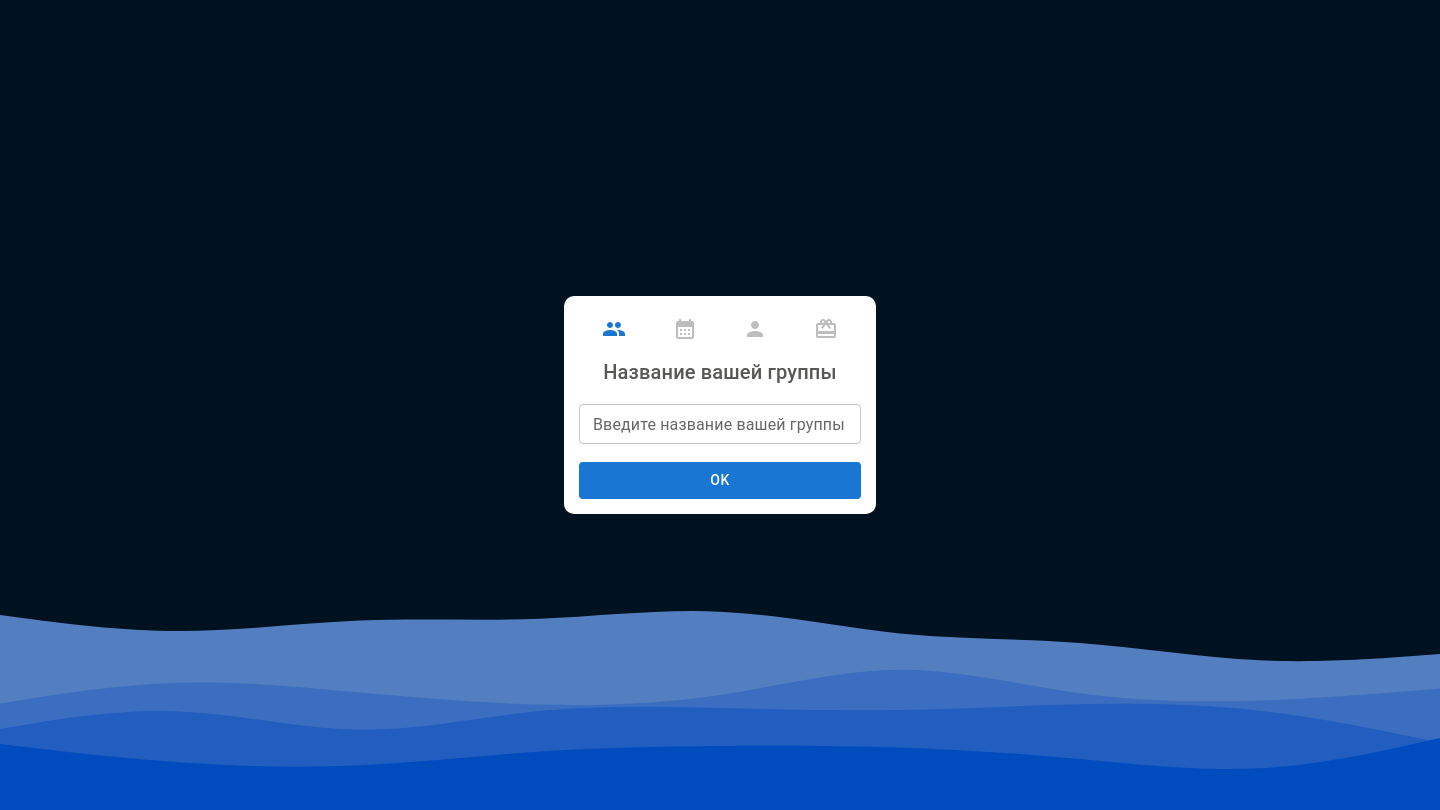
Test: <Group /> › should render component GroupDate on the step 2 screen
In the field with test id "group-name-input": (720, 424) [579,404,861,444], type "content"
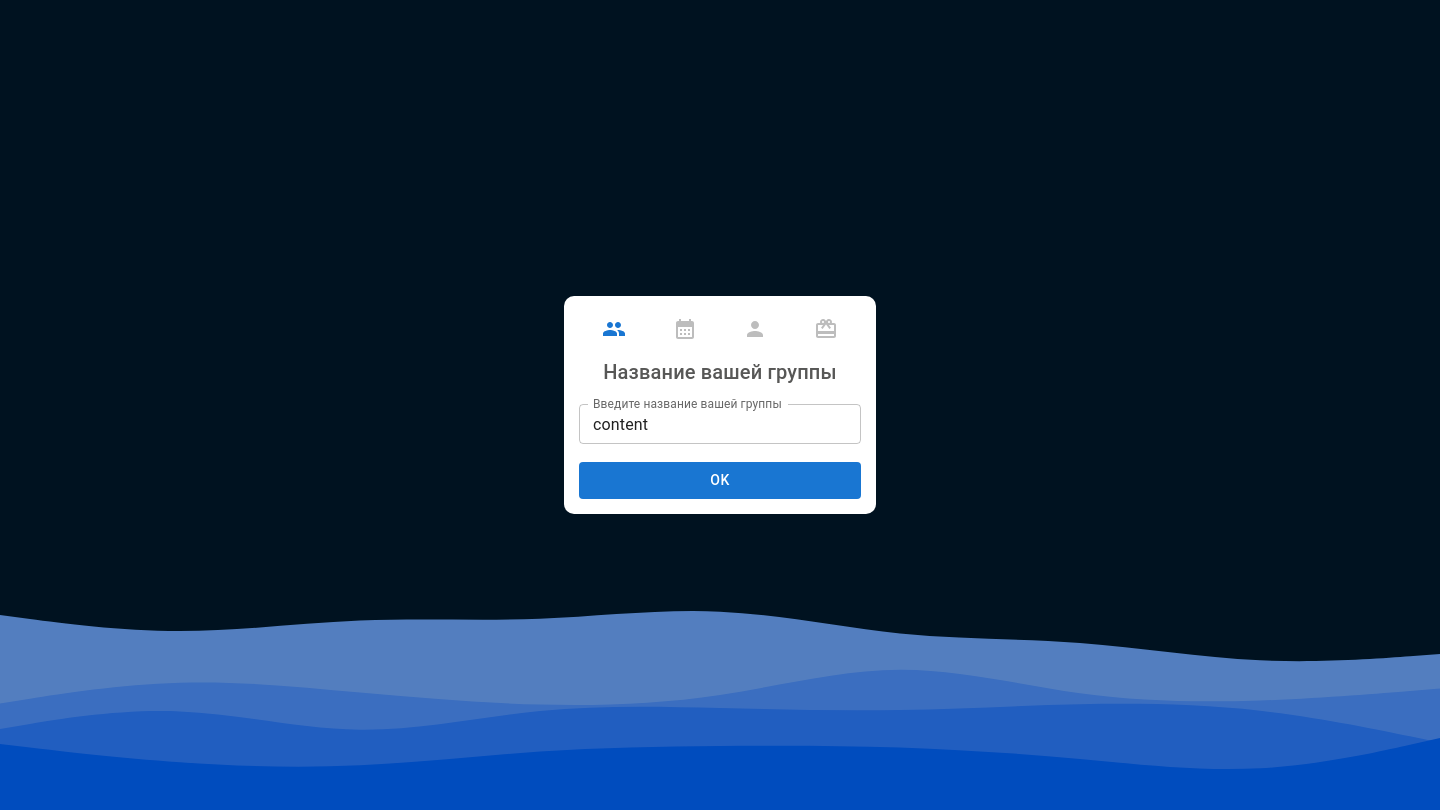
Click the button "OK": (720, 481) [579,462,861,499]
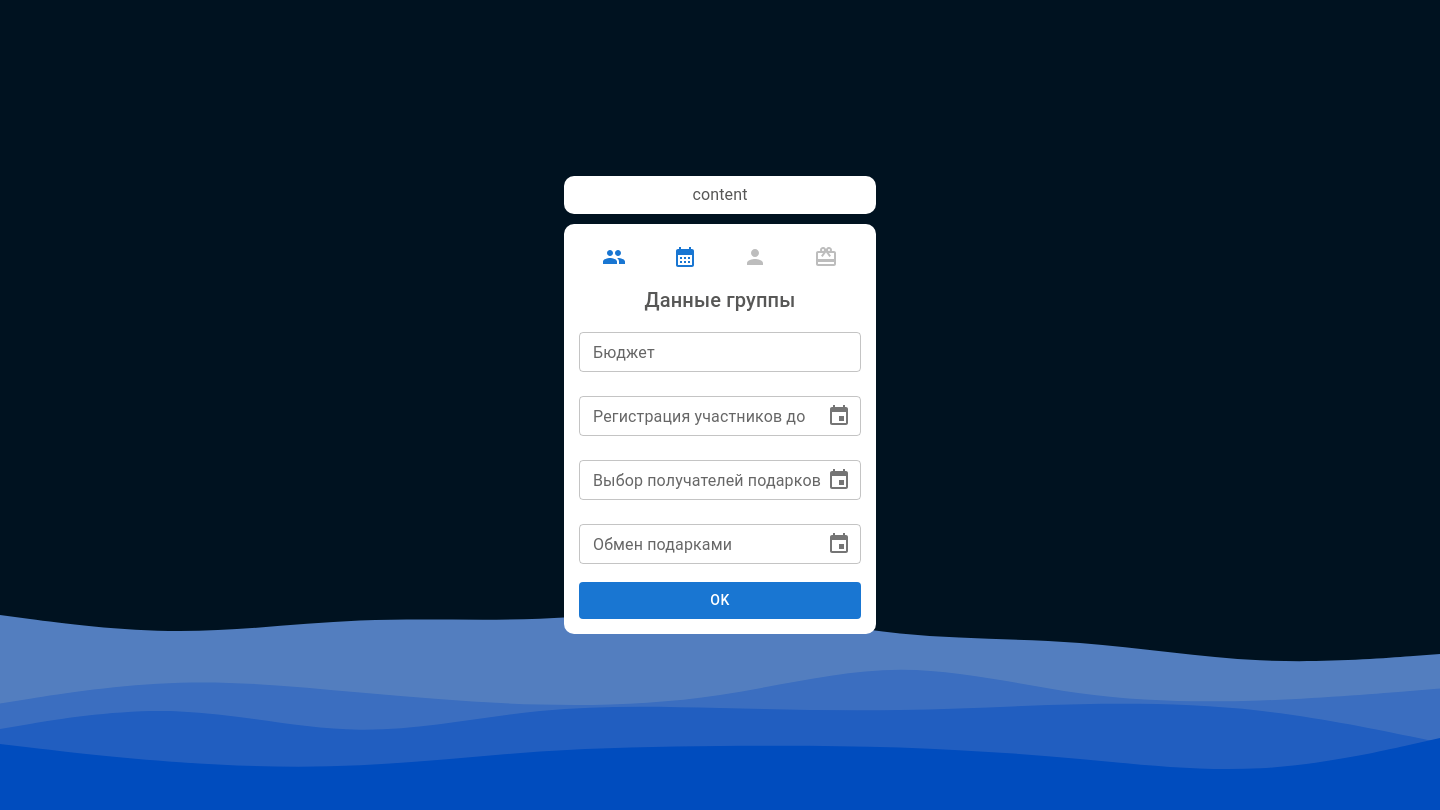
Check: the element with test id "group-date" is shown, box [579,284,861,619]
